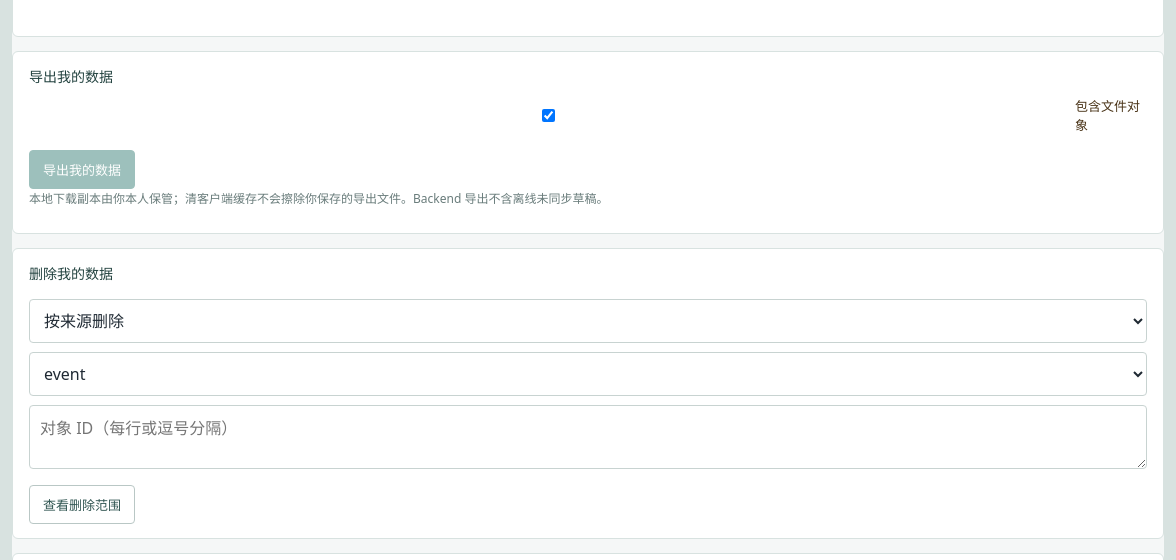
Test case: 数据与隐私页 › 账号删除两步确认：回执留存（含完整确认体）→ 本机清理 verified（VACUUM 路径）
The width and height of the screenshot is (1176, 560).
Select "删除整个账号" in the dropdown named "删除范围" at (588, 321), box [29,299,1147,343]
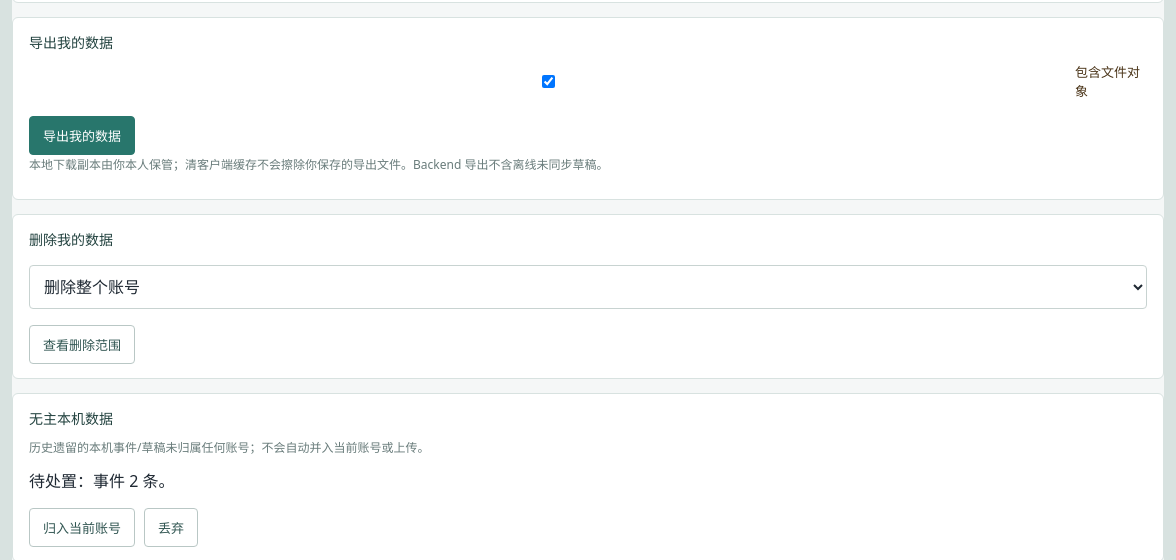
Click the button "查看删除范围" at (82, 344), box [29,325,135,364]
(page scrolled)
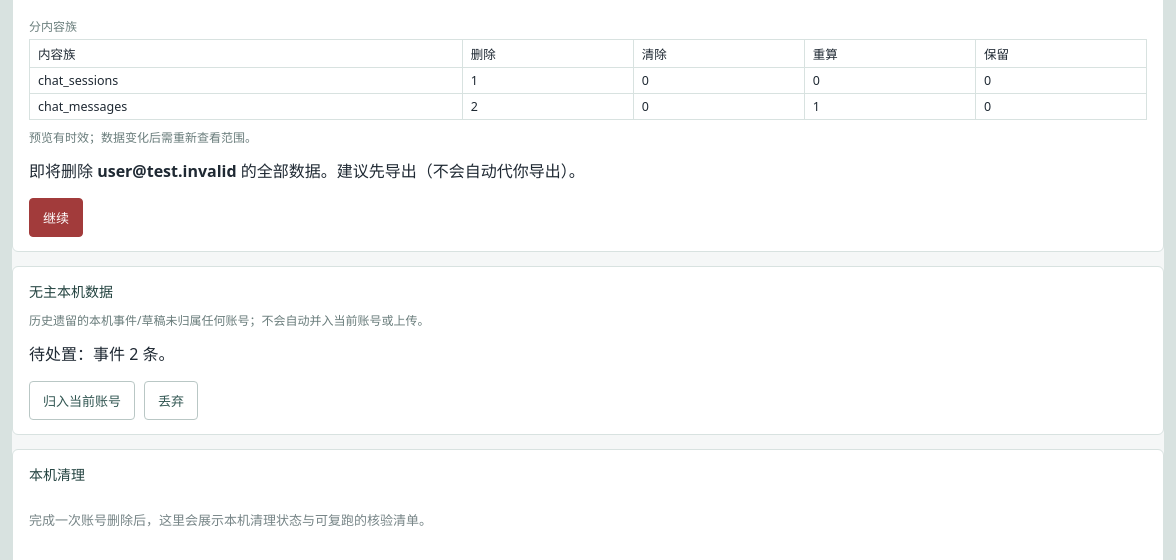
Check: the text "user@test.invalid" is shown, box [97,160,237,182]
Click the button "继续" at (56, 218), box [29,198,83,237]
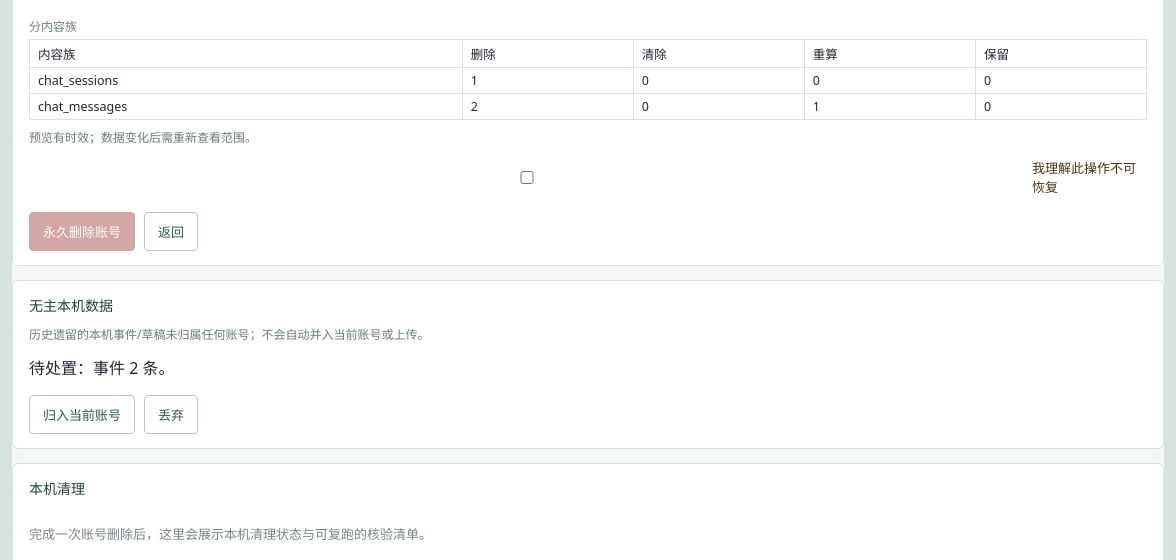
Check: the button "永久删除账号" is disabled, box [29,212,135,251]
Click the checkbox labelled "我理解此操作不可恢复" at (527, 177), box [33,170,1021,184]
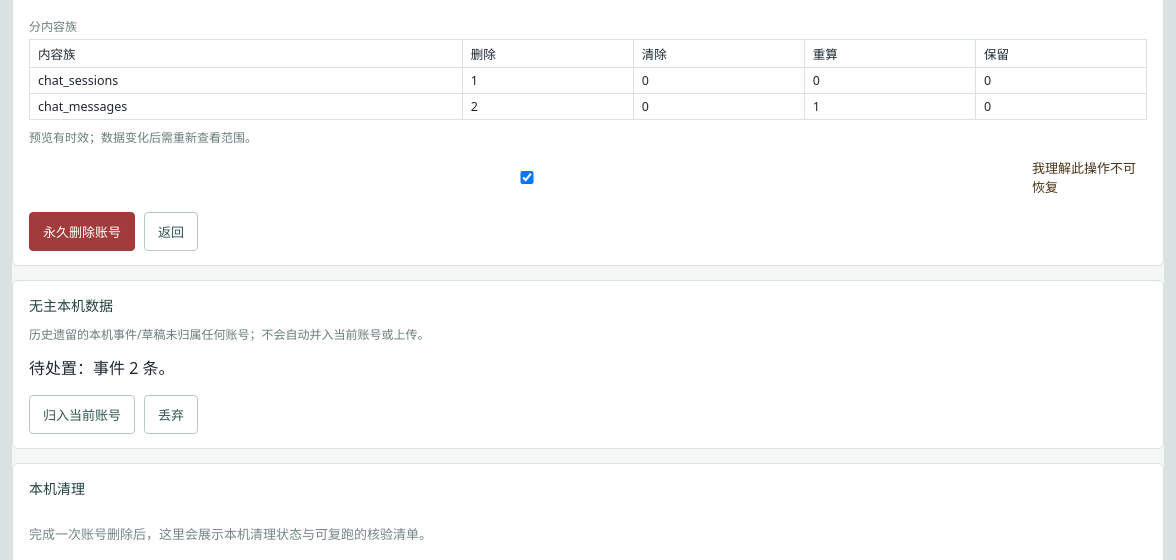
Check: the button "永久删除账号" is enabled
Click the button "永久删除账号" at (82, 232), box [29,212,135,251]
(page scrolled)
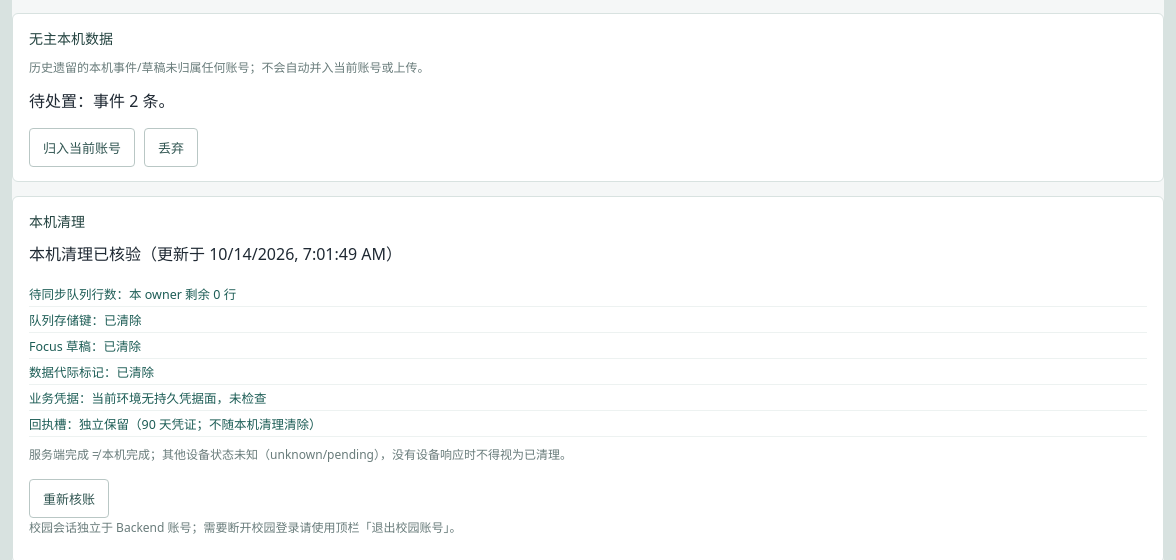
Check: the text "本机清理已核验（更新于 10/14/2026, 7:01:49 AM）" is shown, box [29,242,402,264]
